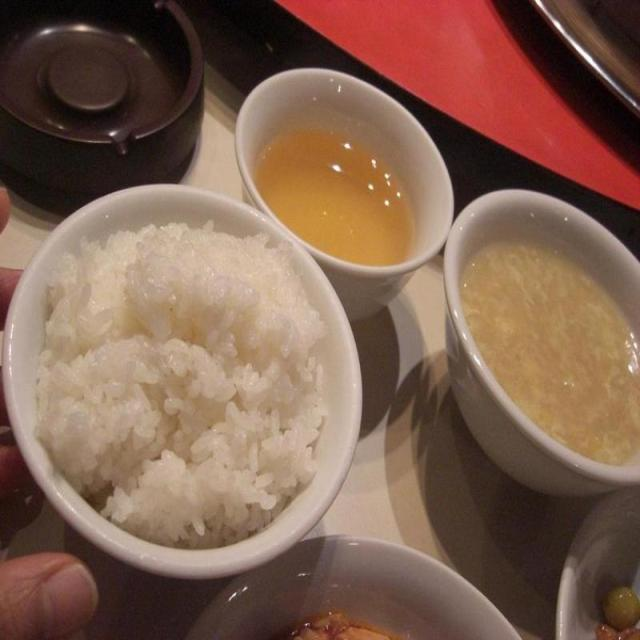rice: (64, 260, 268, 549)
